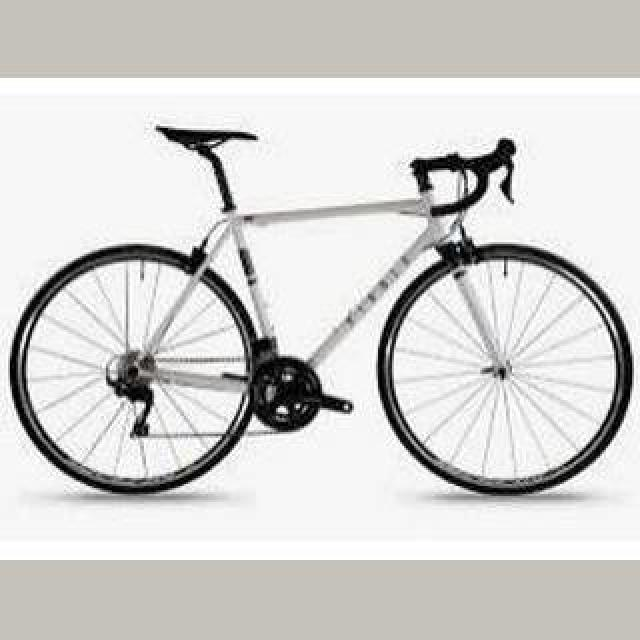Person: (8, 116, 636, 504)
